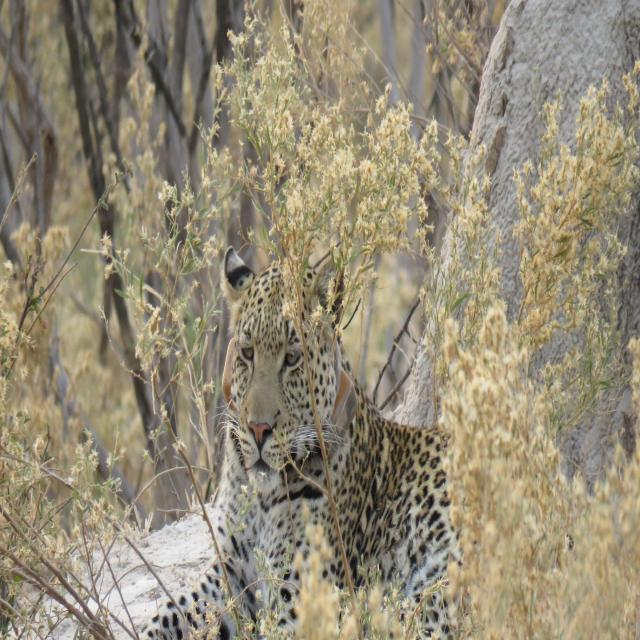Leopard: (128, 233, 585, 640)
